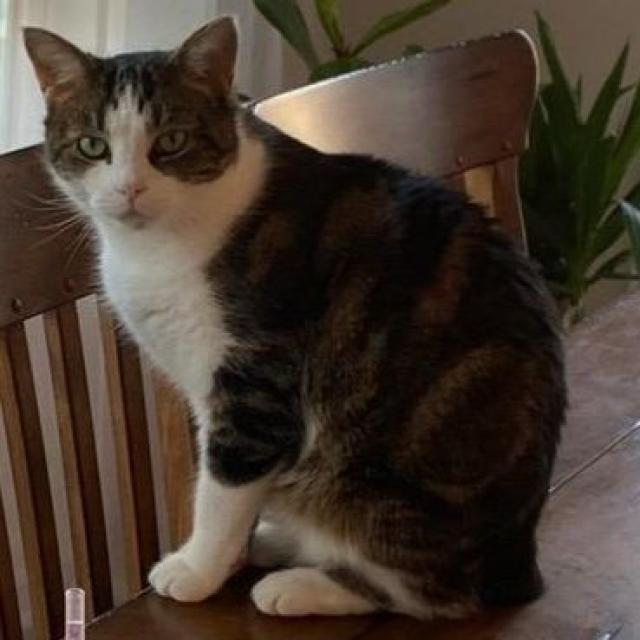manx_cat: (15, 16, 259, 252)
